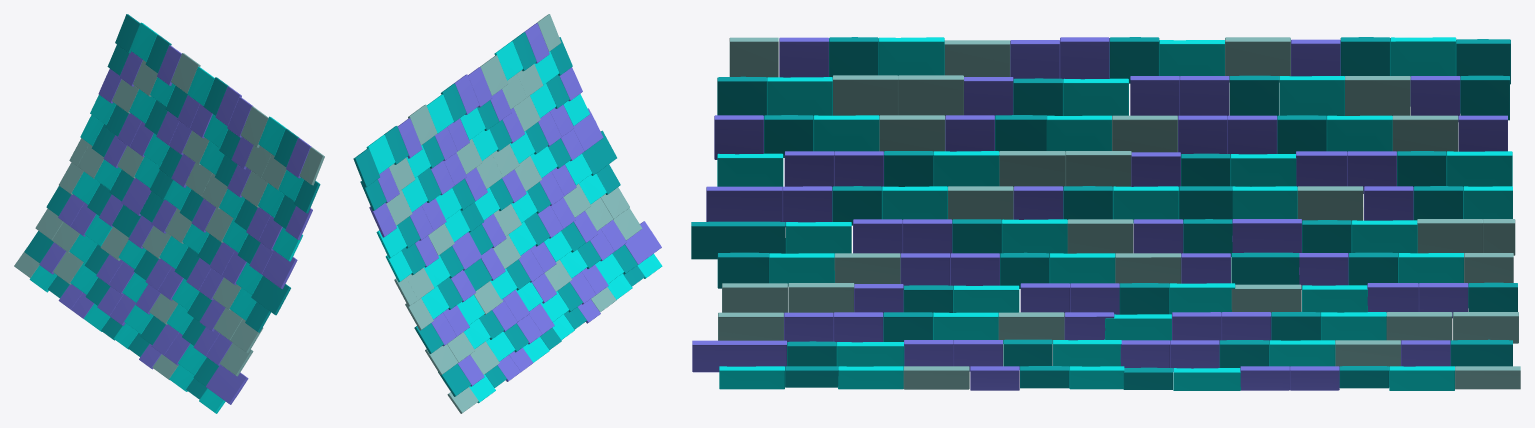
Rendered from SM_roof_02_L.fbx.
3 views of the same model, side by side, from view 1: azimuth 30°, elevation 25°; view 2: azimuth 150°, elevation 25°; view 3: azimuth 270°, elevation 25° (orthographic). The views are drawn at different scales.
Visible parts, largest first — view 1: SM_roof_02; view 2: SM_roof_02; view 3: SM_roof_02.
Part boxes in pixels (x1,y1,x2,y2): SM_roof_02: [14, 14, 324, 413]; SM_roof_02: [353, 14, 662, 413]; SM_roof_02: [691, 37, 1520, 390].
Size of the model in its own units: 2.12 by 4.12 by 6.72.
